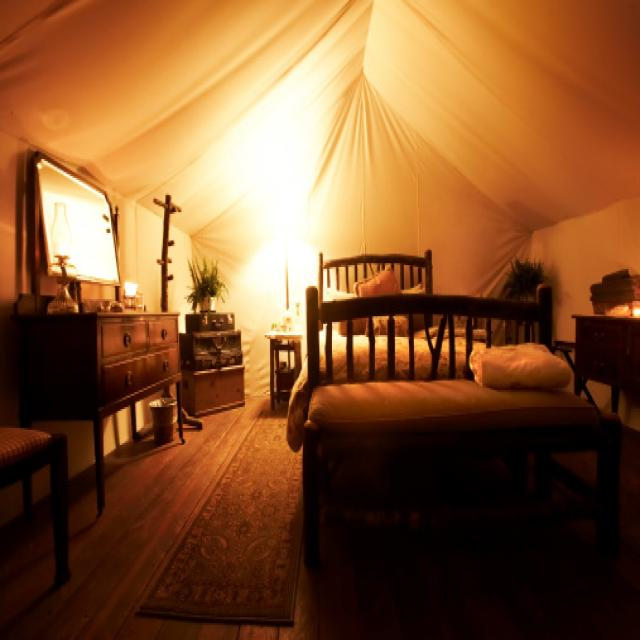Table: (13, 301, 200, 499), (572, 306, 640, 446), (263, 332, 302, 417)
chair: (291, 356, 625, 630), (0, 412, 86, 608)
